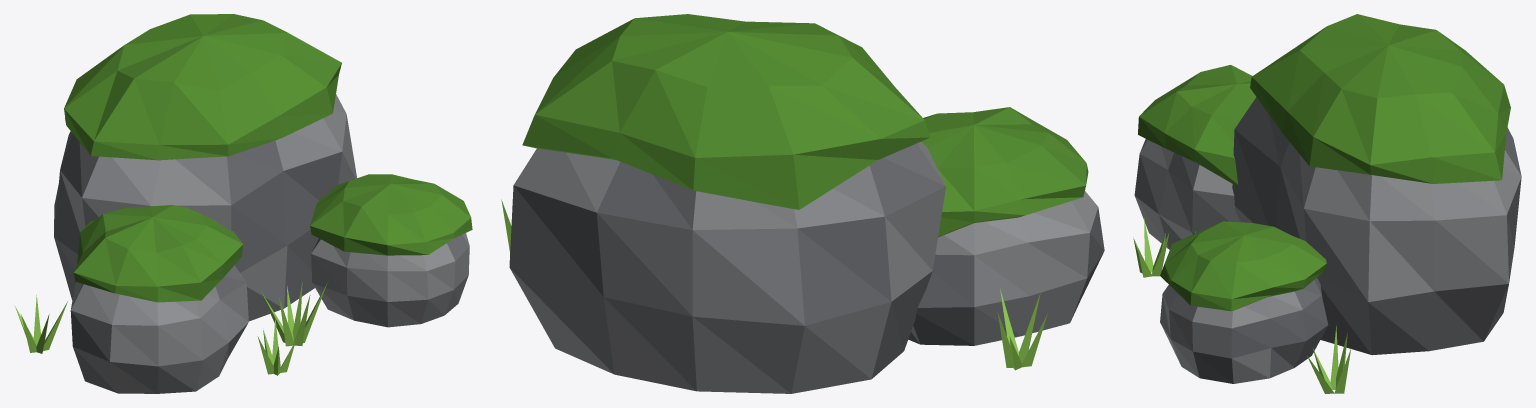
File: mossy-rocks.glb
The picture shows the model from 3 angles, left to right: view 1: azimuth 30°, elevation 25°; view 2: azimuth 150°, elevation 25°; view 3: azimuth 270°, elevation 25°; orthographic projection. The views are drawn at different scales.
Parts seen in each view (by area): view 1: Moss, Rock, RockDark, Grass; view 2: Rock, Moss, RockDark, Grass; view 3: Moss, Rock, RockDark, Grass.
Part boxes in pixels (x1,y1,x2,y2): Moss: (64, 14, 472, 302); Rock: (54, 94, 469, 393); RockDark: (54, 134, 469, 393); Grass: (14, 281, 327, 375); Rock: (510, 141, 1098, 393); Moss: (522, 14, 1088, 237); RockDark: (509, 143, 1104, 378); Grass: (501, 199, 1047, 370); Moss: (1138, 14, 1510, 311); Rock: (1134, 139, 1521, 383); RockDark: (1168, 97, 1521, 383); Grass: (1133, 218, 1351, 393).
Bounding box in the file's own units: 7.06 × 3.83 × 5.39.
